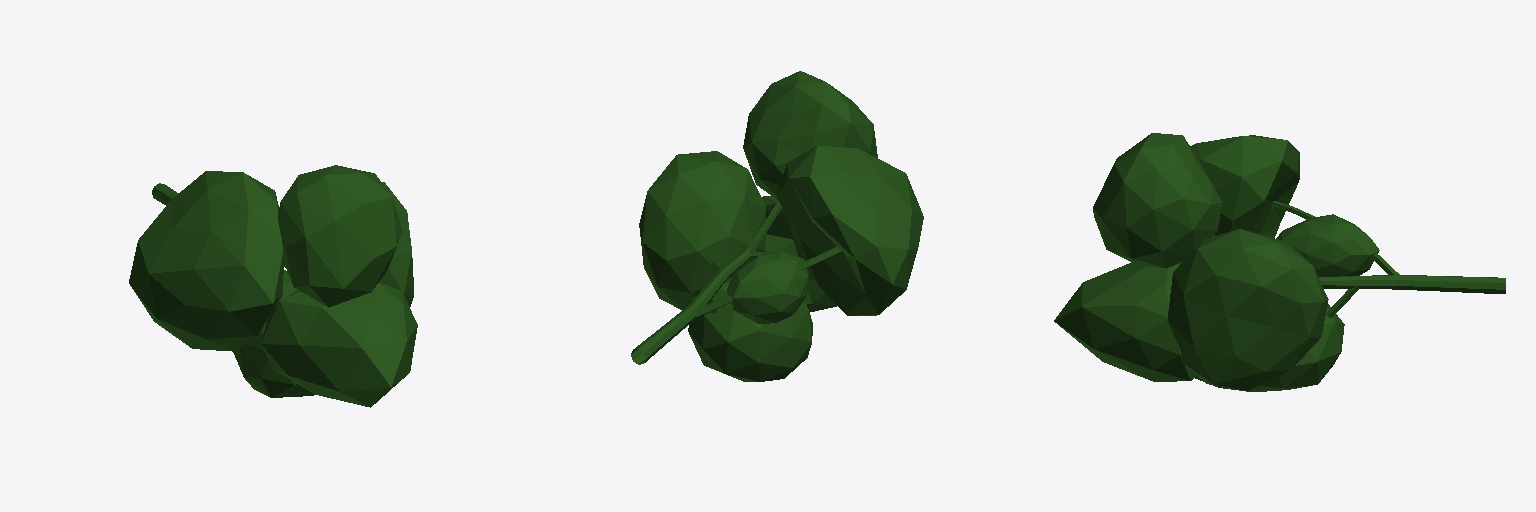
File: birch2.obj
3 renders of one model, left to right at view 1: azimuth 30°, elevation 25°; view 2: azimuth 150°, elevation 25°; view 3: azimuth 270°, elevation 25°, orthographic.
Parts seen in each view (by area): view 1: Birch2; view 2: Birch2; view 3: Birch2.
Part boxes in pixels (x1,y1,x2,y2): Birch2: (129,165,417,407); Birch2: (631,71,923,381); Birch2: (1054,133,1505,391).
Bounding box in the file's own units: 4.28 × 4.09 × 6.66.